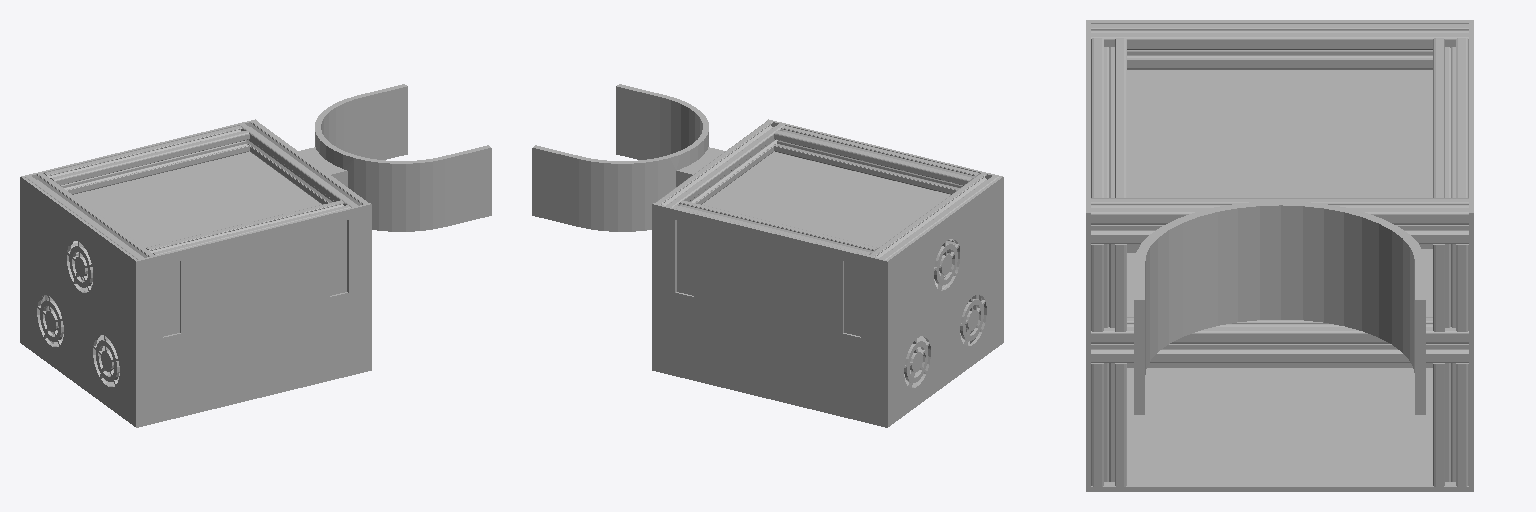
URDF robot description (cw):
<?xml version="1.0" encoding="utf-8"?>
<!-- This URDF was automatically created by SolidWorks to URDF Exporter! Originally created by [author] ([email redacted]) 
     Commit Version: 1.5.1-0-g916b5db  Build Version: 1.5.7152.31018
     For more information, please see http://wiki.ros.org/sw_urdf_exporter -->
<robot
  name="cw">
  <link
    name="Base">
    <inertial>
      <origin
        xyz="-0.143651511857374 -0.108895459398045 -0.0812772540077323"
        rpy="0 0 0" />
      <mass
        value="5.26325366509137" />
      <inertia
        ixx="0.0148943720049105"
        ixy="1.47975198134268E-06"
        ixz="8.31653282119485E-06"
        iyy="0.0219350627580291"
        iyz="-4.01751561824983E-06"
        izz="0.0231941861217009" />
    </inertial>
    <visual>
      <origin
        xyz="0 0 0"
        rpy="0 0 0" />
      <geometry>
        <mesh
          filename="package://cw/meshes/Base.STL" />
      </geometry>
      <material
        name="">
        <color
          rgba="0.752941176470588 0.752941176470588 0.752941176470588 1" />
      </material>
    </visual>
    <collision>
      <origin
        xyz="0 0 0"
        rpy="0 0 0" />
      <geometry>
        <mesh
          filename="package://cw/meshes/Base.STL" />
      </geometry>
    </collision>
  </link>
  <link
    name="LFS">
    <inertial>
      <origin
        xyz="0.0666875210853818 0.00364278355332759 -0.0648369138582873"
        rpy="0 0 0" />
      <mass
        value="0.26437001106024" />
      <inertia
        ixx="3.20746276473134E-05"
        ixy="-1.44118283521323E-07"
        ixz="-6.30853084344803E-08"
        iyy="6.22704126338856E-05"
        iyz="-2.01894652764197E-07"
        izz="6.28519936954001E-05" />
    </inertial>
    <visual>
      <origin
        xyz="0 0 0"
        rpy="0 0 0" />
      <geometry>
        <mesh
          filename="package://cw/meshes/LFS.STL" />
      </geometry>
      <material
        name="">
        <color
          rgba="0.752941176470588 0.752941176470588 0.752941176470588 1" />
      </material>
    </visual>
    <collision>
      <origin
        xyz="0 0 0"
        rpy="0 0 0" />
      <geometry>
        <mesh
          filename="package://cw/meshes/LFS.STL" />
      </geometry>
    </collision>
  </link>
  <joint
    name="LFS"
    type="prismatic">
    <origin
      xyz="-0.050812 -0.31516 0.047207"
      rpy="-0.30763 0 1.5708" />
    <parent
      link="Base" />
    <child
      link="LFS" />
    <axis
      xyz="0 0.3028 -0.95305" />
    <limit
      lower="0"
      upper="0"
      effort="0"
      velocity="0" />
  </joint>
  <link
    name="LFW">
    <inertial>
      <origin
        xyz="-0.012315724574073 -1.38777878078145E-17 0"
        rpy="0 0 0" />
      <mass
        value="0.193585420779862" />
      <inertia
        ixx="0.000253081141332254"
        ixy="-5.88092833198904E-37"
        ixz="5.1845054750851E-21"
        iyy="0.000136818598566517"
        iyz="7.17557753438369E-37"
        izz="0.000136818598566517" />
    </inertial>
    <visual>
      <origin
        xyz="0 0 0"
        rpy="0 0 0" />
      <geometry>
        <mesh
          filename="package://cw/meshes/LFW.STL" />
      </geometry>
      <material
        name="">
        <color
          rgba="1 1 1 1" />
      </material>
    </visual>
    <collision>
      <origin
        xyz="0 0 0"
        rpy="0 0 0" />
      <geometry>
        <mesh
          filename="package://cw/meshes/LFW.STL" />
      </geometry>
    </collision>
  </link>
  <joint
    name="LFW"
    type="continuous">
    <origin
      xyz="0.00041099 -0.018219 -0.039786"
      rpy="-1.8784 0 3.1416" />
    <parent
      link="LFS" />
    <child
      link="LFW" />
    <axis
      xyz="1 0 0" />
  </joint>
  <link
    name="RFS">
    <inertial>
      <origin
        xyz="0.0724473276378504 -0.00242306558271344 -0.0667549990091164"
        rpy="0 0 0" />
      <mass
        value="0.26437001106024" />
      <inertia
        ixx="3.20746276473134E-05"
        ixy="1.4411828352133E-07"
        ixz="6.30853084344786E-08"
        iyy="6.22704126338856E-05"
        iyz="-2.01894652764197E-07"
        izz="6.28519936954002E-05" />
    </inertial>
    <visual>
      <origin
        xyz="0 0 0"
        rpy="0 0 0" />
      <geometry>
        <mesh
          filename="package://cw/meshes/RFS.STL" />
      </geometry>
      <material
        name="">
        <color
          rgba="0.752941176470588 0.752941176470588 0.752941176470588 1" />
      </material>
    </visual>
    <collision>
      <origin
        xyz="0 0 0"
        rpy="0 0 0" />
      <geometry>
        <mesh
          filename="package://cw/meshes/RFS.STL" />
      </geometry>
    </collision>
  </link>
  <joint
    name="RFS"
    type="prismatic">
    <origin
      xyz="-0.012128 0.10492 0.047207"
      rpy="-0.30763 0 -1.5708" />
    <parent
      link="Base" />
    <child
      link="RFS" />
    <axis
      xyz="0 0.3028 -0.95305" />
    <limit
      lower="0"
      upper="0"
      effort="0"
      velocity="0" />
  </joint>
  <link
    name="RFW">
    <inertial>
      <origin
        xyz="-0.012315724574073 5.55111512312578E-17 2.77555756156289E-17"
        rpy="0 0 0" />
      <mass
        value="0.193585420779862" />
      <inertia
        ixx="0.000253081141332254"
        ixy="-9.44297928840748E-22"
        ixz="9.68305644339428E-21"
        iyy="0.000136818598566517"
        iyz="1.01643953670516E-20"
        izz="0.000136818598566517" />
    </inertial>
    <visual>
      <origin
        xyz="0 0 0"
        rpy="0 0 0" />
      <geometry>
        <mesh
          filename="package://cw/meshes/RFW.STL" />
      </geometry>
      <material
        name="">
        <color
          rgba="1 1 1 1" />
      </material>
    </visual>
    <collision>
      <origin
        xyz="0 0 0"
        rpy="0 0 0" />
      <geometry>
        <mesh
          filename="package://cw/meshes/RFW.STL" />
      </geometry>
    </collision>
  </link>
  <joint
    name="RFW"
    type="continuous">
    <origin
      xyz="0.0061708 0.00097405 -0.03369"
      rpy="-0.69943 0 3.1416" />
    <parent
      link="RFS" />
    <child
      link="RFW" />
    <axis
      xyz="1 0 0" />
  </joint>
  <link
    name="LBS">
    <inertial>
      <origin
        xyz="0.0754022136877307 -0.00953574862501649 -0.0222014198592475"
        rpy="0 0 0" />
      <mass
        value="0.197009126147877" />
      <inertia
        ixx="1.68802738687172E-05"
        ixy="2.58186277621488E-21"
        ixz="1.18358037005826E-21"
        iyy="5.02184885667569E-05"
        iyz="1.0508875929185E-06"
        izz="4.72447473350486E-05" />
    </inertial>
    <visual>
      <origin
        xyz="0 0 0"
        rpy="0 0 0" />
      <geometry>
        <mesh
          filename="package://cw/meshes/LBS.STL" />
      </geometry>
      <material
        name="">
        <color
          rgba="0.752941176470588 0.752941176470588 0.752941176470588 1" />
      </material>
    </visual>
    <collision>
      <origin
        xyz="0 0 0"
        rpy="0 0 0" />
      <geometry>
        <mesh
          filename="package://cw/meshes/LBS.STL" />
      </geometry>
    </collision>
  </link>
  <joint
    name="LBS"
    type="prismatic">
    <origin
      xyz="-0.23081 -0.31516 -0.0042239"
      rpy="-0.30763 0 1.5708" />
    <parent
      link="Base" />
    <child
      link="LBS" />
    <axis
      xyz="0 0.3028 -0.95305" />
    <limit
      lower="0"
      upper="0"
      effort="0"
      velocity="0" />
  </joint>
  <link
    name="LBC">
    <inertial>
      <origin
        xyz="0.00212675678752455 -0.00125107346378661 -2.77555756156289E-17"
        rpy="0 0 0" />
      <mass
        value="0.0337925918529465" />
      <inertia
        ixx="9.9077845929407E-06"
        ixy="1.2779398016802E-06"
        ixz="3.84839800549383E-22"
        iyy="2.88462343109062E-06"
        iyz="2.44383305156921E-21"
        izz="1.17553584577796E-05" />
    </inertial>
    <visual>
      <origin
        xyz="0 0 0"
        rpy="0 0 0" />
      <geometry>
        <mesh
          filename="package://cw/meshes/LBC.STL" />
      </geometry>
      <material
        name="">
        <color
          rgba="0.898039215686275 0.917647058823529 0.929411764705882 1" />
      </material>
    </visual>
    <collision>
      <origin
        xyz="0 0 0"
        rpy="0 0 0" />
      <geometry>
        <mesh
          filename="package://cw/meshes/LBC.STL" />
      </geometry>
    </collision>
  </link>
  <joint
    name="LBC"
    type="continuous">
    <origin
      xyz="0.041161 -0.015068 -0.0047875"
      rpy="-1.8784 0 3.1416" />
    <parent
      link="LBS" />
    <child
      link="LBC" />
    <axis
      xyz="0 1 0" />
  </joint>
  <link
    name="LBW">
    <inertial>
      <origin
        xyz="0.017684275425927 0 0"
        rpy="0 0 0" />
      <mass
        value="0.193585420779862" />
      <inertia
        ixx="0.000253081141332254"
        ixy="-5.88092833198904E-37"
        ixz="5.1845054750851E-21"
        iyy="0.000136818598566517"
        iyz="7.17557753438369E-37"
        izz="0.000136818598566517" />
    </inertial>
    <visual>
      <origin
        xyz="0 0 0"
        rpy="0 0 0" />
      <geometry>
        <mesh
          filename="package://cw/meshes/LBW.STL" />
      </geometry>
      <material
        name="">
        <color
          rgba="1 1 1 1" />
      </material>
    </visual>
    <collision>
      <origin
        xyz="0 0 0"
        rpy="0 0 0" />
      <geometry>
        <mesh
          filename="package://cw/meshes/LBW.STL" />
      </geometry>
    </collision>
  </link>
  <joint
    name="LBW"
    type="continuous">
    <origin
      xyz="0.01075 -0.019033 0"
      rpy="0 0 0" />
    <parent
      link="LBC" />
    <child
      link="LBW" />
    <axis
      xyz="1 0 0" />
  </joint>
  <link
    name="RBS">
    <inertial>
      <origin
        xyz="0.0754022136877307 -0.00953574862501652 -0.0222014198592475"
        rpy="0 0 0" />
      <mass
        value="0.197009126147877" />
      <inertia
        ixx="1.68802738687172E-05"
        ixy="-2.41256476367787E-21"
        ixz="-1.24029286521779E-21"
        iyy="5.02184885667569E-05"
        iyz="1.05088759291849E-06"
        izz="4.72447473350486E-05" />
    </inertial>
    <visual>
      <origin
        xyz="0 0 0"
        rpy="0 0 0" />
      <geometry>
        <mesh
          filename="package://cw/meshes/RBS.STL" />
      </geometry>
      <material
        name="">
        <color
          rgba="0.752941176470588 0.752941176470588 0.752941176470588 1" />
      </material>
    </visual>
    <collision>
      <origin
        xyz="0 0 0"
        rpy="0 0 0" />
      <geometry>
        <mesh
          filename="package://cw/meshes/RBS.STL" />
      </geometry>
    </collision>
  </link>
  <joint
    name="RBS"
    type="prismatic">
    <origin
      xyz="-0.19919 0.099161 -0.0042239"
      rpy="-0.30763 0 -1.5708" />
    <parent
      link="Base" />
    <child
      link="RBS" />
    <axis
      xyz="0 0.3028 -0.95305" />
    <limit
      lower="0"
      upper="0"
      effort="0"
      velocity="0" />
  </joint>
  <link
    name="RBC">
    <inertial>
      <origin
        xyz="0.00212675678752453 -0.00125107346378658 0"
        rpy="0 0 0" />
      <mass
        value="0.0337925918529464" />
      <inertia
        ixx="9.90778459294068E-06"
        ixy="1.2779398016802E-06"
        ixz="6.33979346656343E-22"
        iyy="2.88462343109061E-06"
        iyz="2.60516687660511E-21"
        izz="1.17553584577795E-05" />
    </inertial>
    <visual>
      <origin
        xyz="0 0 0"
        rpy="0 0 0" />
      <geometry>
        <mesh
          filename="package://cw/meshes/RBC.STL" />
      </geometry>
      <material
        name="">
        <color
          rgba="0.898039215686275 0.917647058823529 0.929411764705882 1" />
      </material>
    </visual>
    <collision>
      <origin
        xyz="0 0 0"
        rpy="0 0 0" />
      <geometry>
        <mesh
          filename="package://cw/meshes/RBC.STL" />
      </geometry>
    </collision>
  </link>
  <joint
    name="RBC"
    type="continuous">
    <origin
      xyz="0.041161 -0.015068 -0.0047875"
      rpy="-1.8784 0 3.1416" />
    <parent
      link="RBS" />
    <child
      link="RBC" />
    <axis
      xyz="0 1 0" />
  </joint>
  <link
    name="RBW">
    <inertial>
      <origin
        xyz="0.017684275425927 2.77555756156289E-17 2.77555756156289E-17"
        rpy="0 0 0" />
      <mass
        value="0.193585420779862" />
      <inertia
        ixx="0.000253081141332253"
        ixy="-1.77826406212573E-20"
        ixz="1.08676942117992E-20"
        iyy="0.000136818598566517"
        iyz="3.3881317890172E-21"
        izz="0.000136818598566517" />
    </inertial>
    <visual>
      <origin
        xyz="0 0 0"
        rpy="0 0 0" />
      <geometry>
        <mesh
          filename="package://cw/meshes/RBW.STL" />
      </geometry>
      <material
        name="">
        <color
          rgba="1 1 1 1" />
      </material>
    </visual>
    <collision>
      <origin
        xyz="0 0 0"
        rpy="0 0 0" />
      <geometry>
        <mesh
          filename="package://cw/meshes/RBW.STL" />
      </geometry>
    </collision>
  </link>
  <joint
    name="RBW"
    type="continuous">
    <origin
      xyz="0.01075 -0.019033 0"
      rpy="1.7808 0 0" />
    <parent
      link="RBC" />
    <child
      link="RBW" />
    <axis
      xyz="1 0 0" />
  </joint>
  <link
    name="Lidar">
    <inertial>
      <origin
        xyz="-0.0784930223787604 -0.744427430950029 -0.133449677865896"
        rpy="0 0 0" />
      <mass
        value="0.0730845704999828" />
      <inertia
        ixx="1.95808756791187E-05"
        ixy="4.28391210140712E-07"
        ixz="-1.03933581663682E-07"
        iyy="4.14184516311443E-05"
        iyz="-9.42671864204433E-09"
        izz="2.41250079960291E-05" />
    </inertial>
    <visual>
      <origin
        xyz="0 0 0"
        rpy="0 0 0" />
      <geometry>
        <mesh
          filename="package://cw/meshes/Lidar.STL" />
      </geometry>
      <material
        name="">
        <color
          rgba="0.792156862745098 0.819607843137255 0.933333333333333 1" />
      </material>
    </visual>
    <collision>
      <origin
        xyz="0 0 0"
        rpy="0 0 0" />
      <geometry>
        <mesh
          filename="package://cw/meshes/Lidar.STL" />
      </geometry>
    </collision>
  </link>
  <joint
    name="Lidar"
    type="fixed">
    <origin
      xyz="-0.098561 -0.24092 0.5487"
      rpy="1.5708 0 0" />
    <parent
      link="Base" />
    <child
      link="Lidar" />
    <axis
      xyz="0 0 0" />
  </joint>
  <link
    name="Cam">
    <inertial>
      <origin
        xyz="-0.0238863589328312 -0.0255006330045159 0.0933352730175543"
        rpy="0 0 0" />
      <mass
        value="0.0842240111641082" />
      <inertia
        ixx="1.39666927752748E-05"
        ixy="-8.82405655949794E-10"
        ixz="-1.01133319009087E-09"
        iyy="3.67256443822933E-05"
        iyz="-1.5150768696788E-06"
        izz="3.01150328860415E-05" />
    </inertial>
    <visual>
      <origin
        xyz="0 0 0"
        rpy="0 0 0" />
      <geometry>
        <mesh
          filename="package://cw/meshes/Cam.STL" />
      </geometry>
      <material
        name="">
        <color
          rgba="0.752941176470588 0.752941176470588 0.752941176470588 1" />
      </material>
    </visual>
    <collision>
      <origin
        xyz="0 0 0"
        rpy="0 0 0" />
      <geometry>
        <mesh
          filename="package://cw/meshes/Cam.STL" />
      </geometry>
    </collision>
  </link>
  <joint
    name="Cam"
    type="fixed">
    <origin
      xyz="-0.099325 -0.13189 -0.16474"
      rpy="-1.4228 0 -1.5708" />
    <parent
      link="Base" />
    <child
      link="Cam" />
    <axis
      xyz="0 0 0" />
  </joint>
</robot>

--- Facts derived from the render (not from the file) ---
Views: 3 orthographic renders of the robot side by side, from view 1: azimuth 30°, elevation 25°; view 2: azimuth 150°, elevation 25°; view 3: azimuth 270°, elevation 25°.
Robot: cw — 13 links, 12 joints (6 continuous, 4 prismatic, 2 fixed); root link Base; default pose: every joint at zero.
Links seen in each view (by area): view 1: Base; view 2: Base; view 3: Base.
Link boxes in pixels (box(x1,y1,x2,y2)): Base: box(20, 84, 491, 427); Base: box(532, 84, 1003, 427); Base: box(1086, 20, 1473, 491).
Bounding box of the posed robot: 0.3973 × 0.216 × 0.1845 m (x, y, z).
Meshes: 13 distinct files referenced, 1 mesh visuals loaded (1 binary STL); not drawn: 12 (reference not matched to a file when rendering).